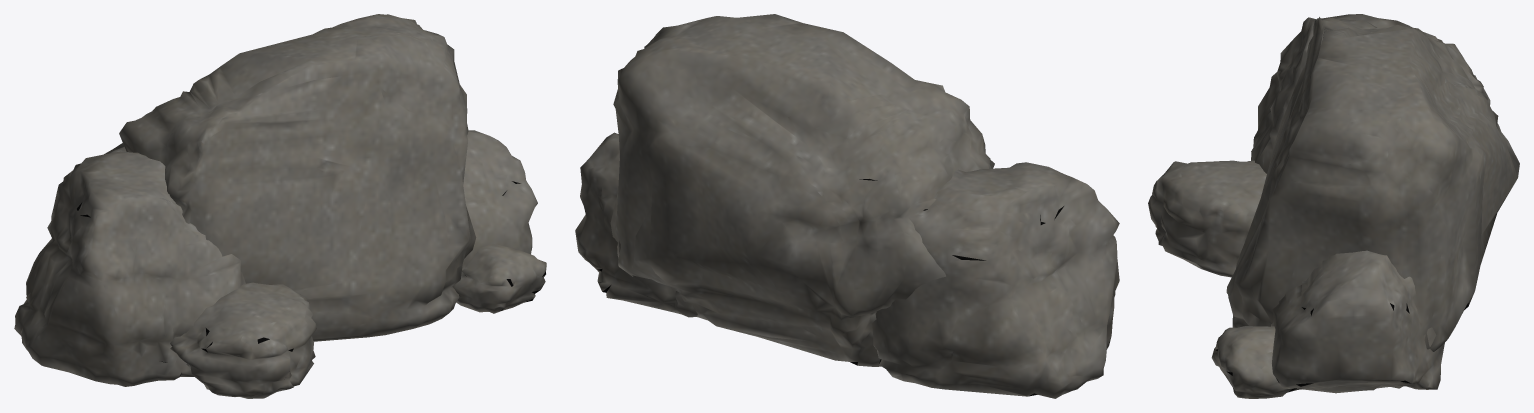
Rendered from coastal_outcrop_LOD0.fbx.
The picture shows the model from 3 angles, left to right: view 1: azimuth 30°, elevation 25°; view 2: azimuth 150°, elevation 25°; view 3: azimuth 270°, elevation 25°; orthographic projection. The views are drawn at different scales.
Visible parts, largest first — view 1: coastal_outcrop_LOD0.001; view 2: coastal_outcrop_LOD0.001; view 3: coastal_outcrop_LOD0.001.
Boxes of the visible parts, box(x1,y1,x2,y2) form: coastal_outcrop_LOD0.001: box(14, 14, 546, 398); coastal_outcrop_LOD0.001: box(575, 14, 1119, 398); coastal_outcrop_LOD0.001: box(1148, 14, 1519, 398).
Bounding box in the file's own units: 800 × 400 × 500.
